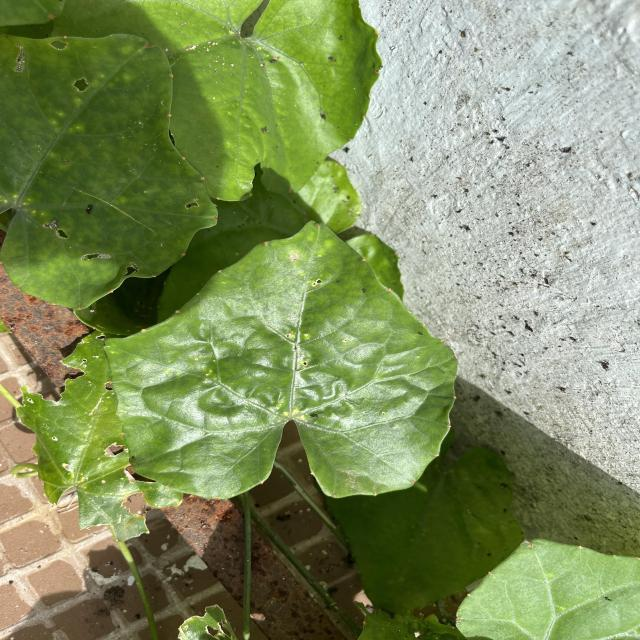Coccinia grandis: (104, 213, 468, 504)
